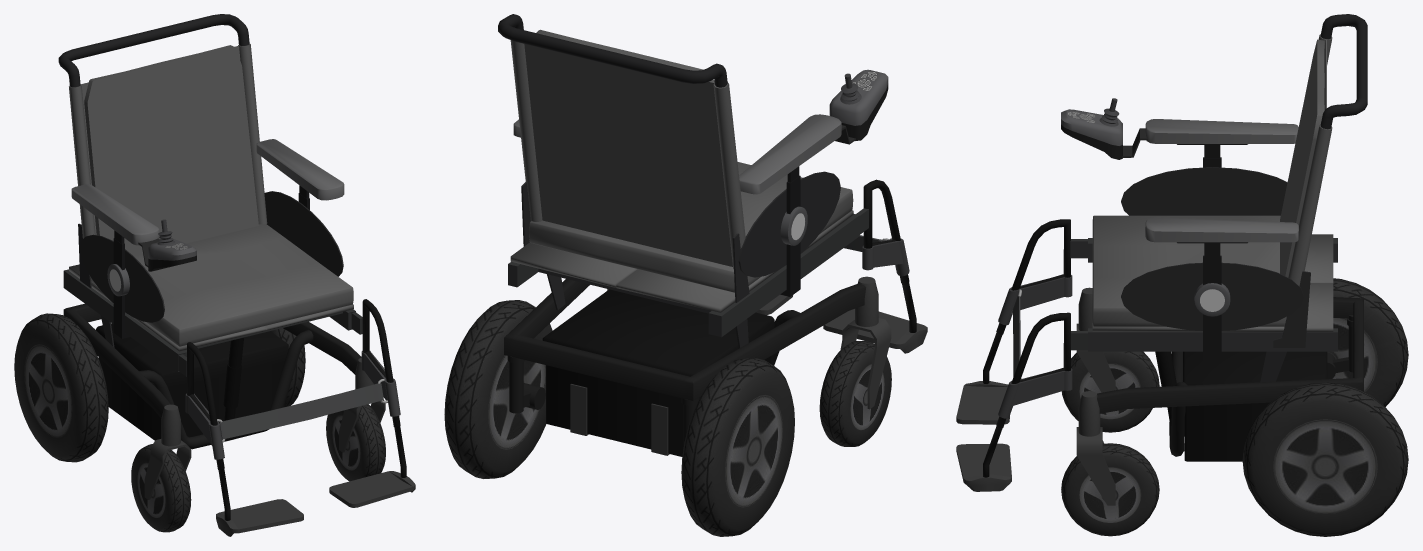
The model's file is sweethome3d-scopia-electric-wheelchair.glb.
The picture shows the model from 3 angles, left to right: view 1: azimuth 30°, elevation 25°; view 2: azimuth 150°, elevation 25°; view 3: azimuth 270°, elevation 25°; orthographic projection. The views are drawn at different scales.
Visible parts, largest first — view 1: TopCushion, Wheels, Cushion, Battery, SideProtections, Armrest, LowStructure, FootSupports, Back, SeatStructure, MetallicBars, FabricUnion (+7 smaller); view 2: Back, Wheels, Battery, Cushion, LowStructure, Armrest, SeatStructure, SideProtections, BackBar, Command, PlasticWheelProtections, FootSupports (+7 smaller); view 3: Wheels, SideProtections, Cushion, Armrest, Battery, LowStructure, SeatStructure, PlasticWheelProtections, FootSupports, TopCushion, MetallicBars, PlasticBarProtections (+8 smaller).
Boxes of the visible parts, x1,y1,x2,y2 form: TopCushion: (84,45,258,256); Wheels: (14,313,385,532); Cushion: (69,224,353,351); Battery: (96,323,288,440); SideProtections: (80,191,343,322); Armrest: (71,139,344,338); LowStructure: (63,303,361,449); FootSupports: (216,471,415,536); Back: (69,44,267,238); SeatStructure: (63,269,362,376); MetallicBars: (187,299,406,520); FabricUnion: (219,383,383,438); Back: (510,40,745,269); Wheels: (444,300,891,536); Battery: (542,289,774,456); Cushion: (510,162,853,312); LowStructure: (504,279,865,400); Armrest: (513,114,841,296); SeatStructure: (508,208,868,337); SideProtections: (738,171,840,277); BackBar: (498,14,727,87); Command: (829,69,888,144); PlasticWheelProtections: (607,276,891,409); FootSupports: (756,294,927,353); Wheels: (1061,278,1408,536); SideProtections: (1121,167,1303,330); Cushion: (1092,215,1333,331); Armrest: (1145,119,1298,360); Battery: (1183,351,1327,461); LowStructure: (1097,297,1363,456); SeatStructure: (1070,238,1337,351); PlasticWheelProtections: (1076,287,1115,505); FootSupports: (956,381,1011,491); TopCushion: (1280,39,1324,277); MetallicBars: (983,219,1070,477); PlasticBarProtections: (998,275,1072,418).
Bounding box in the file's own units: 55.38 × 91.36 × 88.57.
29 materials, 3 textured.
